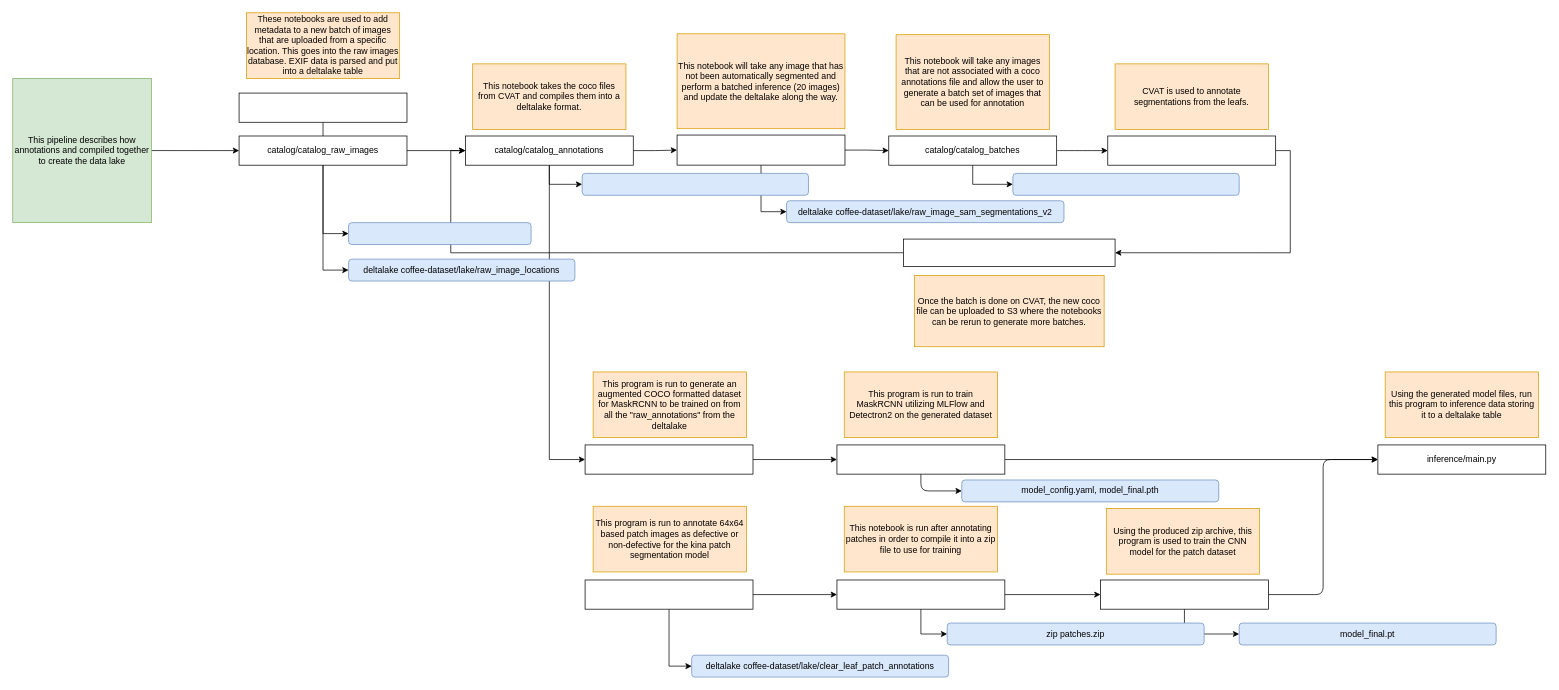
The diagram is 1559 pixels wide and 690 high, and some of its shapes have lost their labels. The box of each missing label's shape, as (x1, y1, x2, y2) in pixels:
catalog/catalog_raw_image_locations: (238, 92, 407, 122)
CVAT: (1107, 135, 1276, 165)
data/kina/export_patches.ipynb: (836, 579, 1005, 609)
data/kina/patches.py: (584, 579, 753, 609)
data/laau/main.py: (584, 444, 753, 474)
data/sam_segment: (676, 134, 845, 165)
deltalake coffee-dataset/lake/leased_segmentations: (1012, 173, 1239, 195)
deltalake coffee-dataset/lake/raw_annotations: (581, 173, 808, 195)
deltalake coffee-dataset/lake/raw_images_v2: (348, 222, 531, 245)
models/kina/train_cnn/main.py: (1100, 579, 1268, 609)
models/laau/train_detectron.py models/laau/configuration.yaml: (836, 444, 1005, 474)
S3 coffee-dataset/datasets/coco_annotations: (903, 238, 1115, 266)
